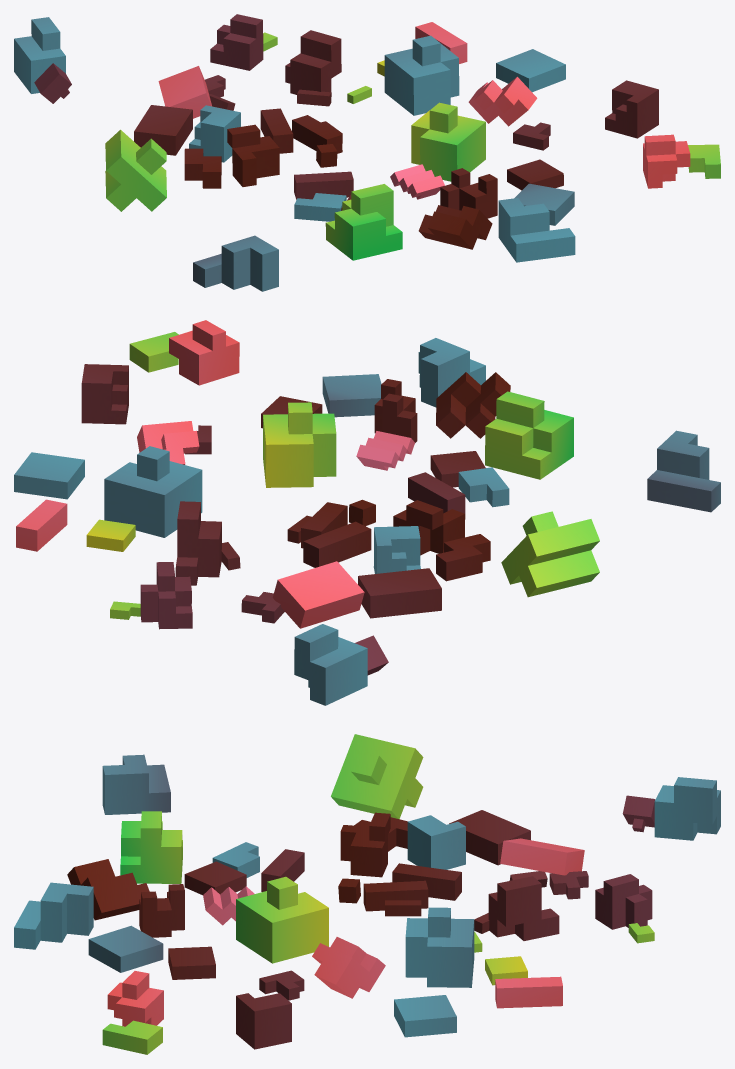
File: Castle_Destruction.fbx
The picture shows the model from 3 angles, top to bottom: view 1: azimuth 30°, elevation 25°; view 2: azimuth 150°, elevation 25°; view 3: azimuth 270°, elevation 25°; orthographic projection. The views are drawn at different scales.
Visible parts, largest first — view 1: Castle_Destruction; view 2: Castle_Destruction; view 3: Castle_Destruction.
Boxes of the visible parts, left/top/right/bottom form: Castle_Destruction: left=14, top=14, right=720, bottom=291; Castle_Destruction: left=14, top=320, right=720, bottom=705; Castle_Destruction: left=14, top=734, right=720, bottom=1054.
Size of the model in its own units: 273 by 29.46 by 300.
